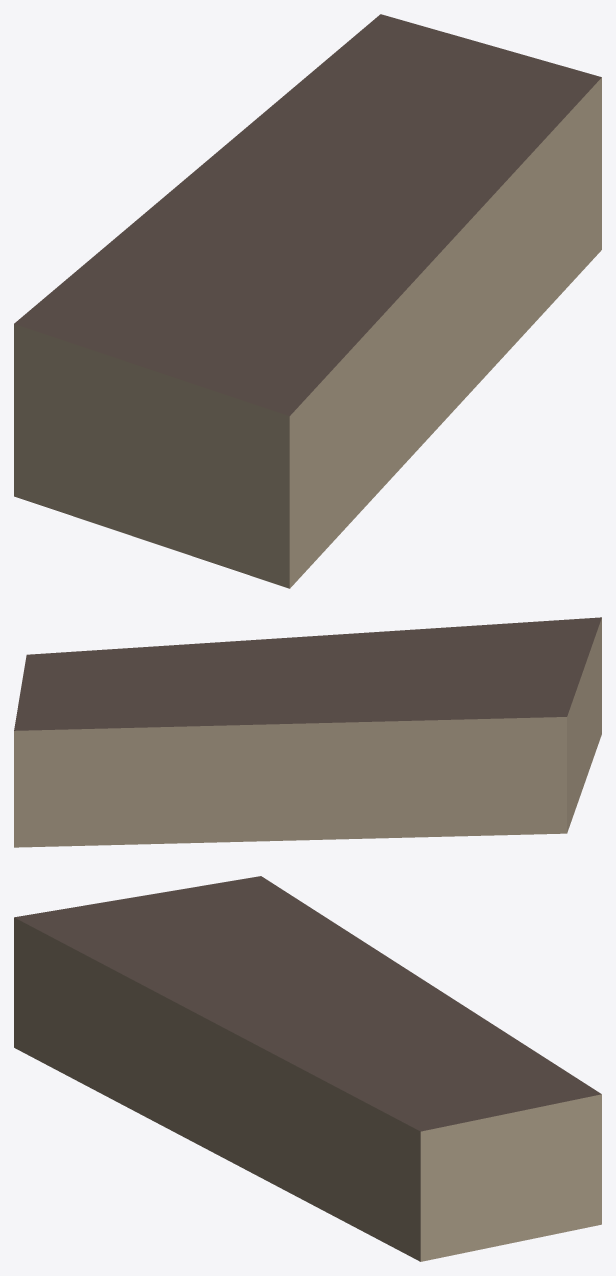
3 renders of one model, top to bottom at view 1: azimuth 30°, elevation 25°; view 2: azimuth 150°, elevation 25°; view 3: azimuth 270°, elevation 25°, orthographic. The views are drawn at different scales.
Parts seen in each view (by area): view 1: HP-w369342531; view 2: HP-w369342531; view 3: HP-w369342531.
Part boxes in pixels (left/top/right/bottom): HP-w369342531: left=14, top=14, right=601, bottom=588; HP-w369342531: left=14, top=617, right=601, bottom=847; HP-w369342531: left=14, top=876, right=601, bottom=1261.
Size of the model in its own units: 37.84 by 9 by 36.79.
